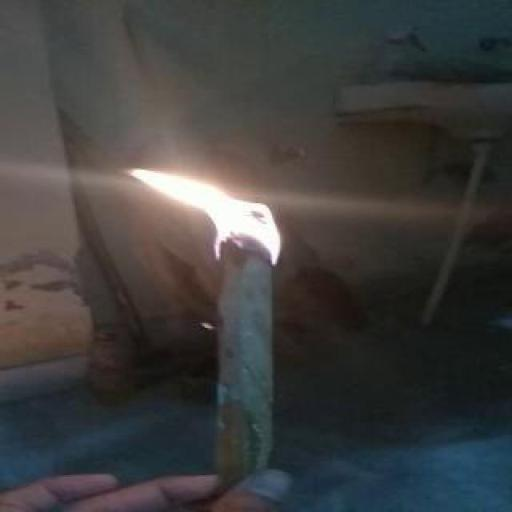smoke: (92, 147, 294, 272)
